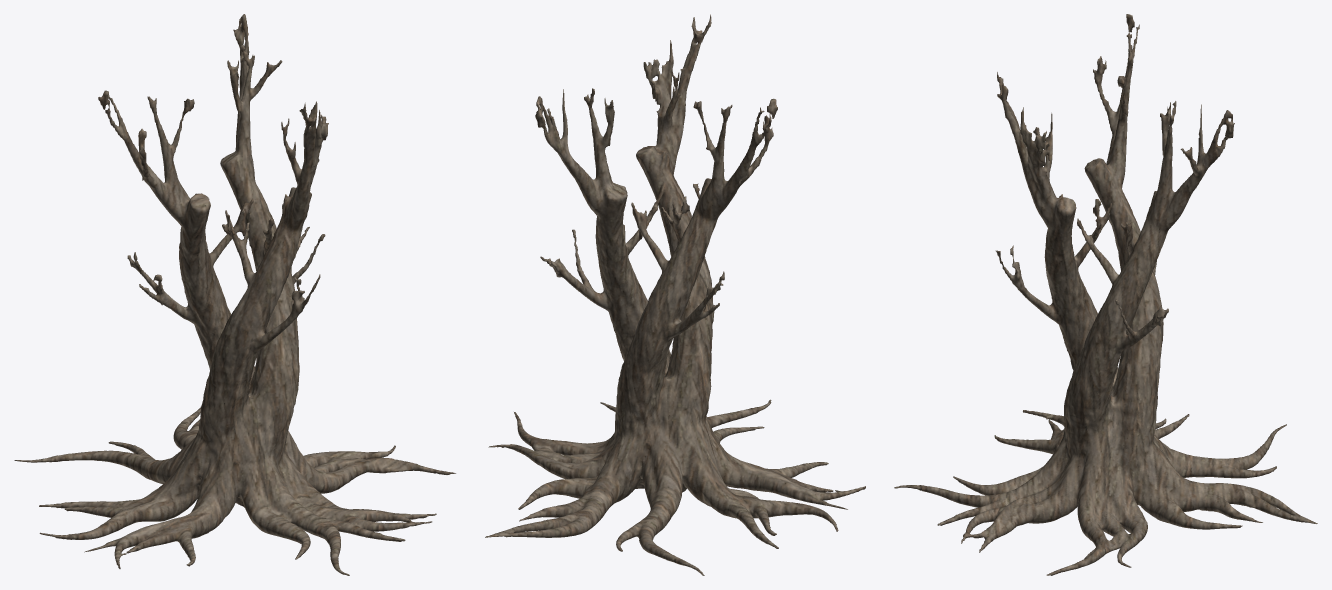
The model's file is dead-oak-v02.glb.
3 renders of one model, left to right at view 1: azimuth 30°, elevation 25°; view 2: azimuth 150°, elevation 25°; view 3: azimuth 270°, elevation 25°, orthographic. The views are drawn at different scales.
Visible parts, largest first — view 1: Dead oak v02 | connected branches; view 2: Dead oak v02 | connected branches; view 3: Dead oak v02 | connected branches.
Part boxes in pixels (box(x1,y1,x2,y2)): Dead oak v02 | connected branches: box(14, 14, 455, 575); Dead oak v02 | connected branches: box(485, 14, 865, 575); Dead oak v02 | connected branches: box(894, 14, 1317, 575).
Bounding box in the file's own units: 5.71 × 6.51 × 5.75.
Materials: 1 (1 with a texture image).
